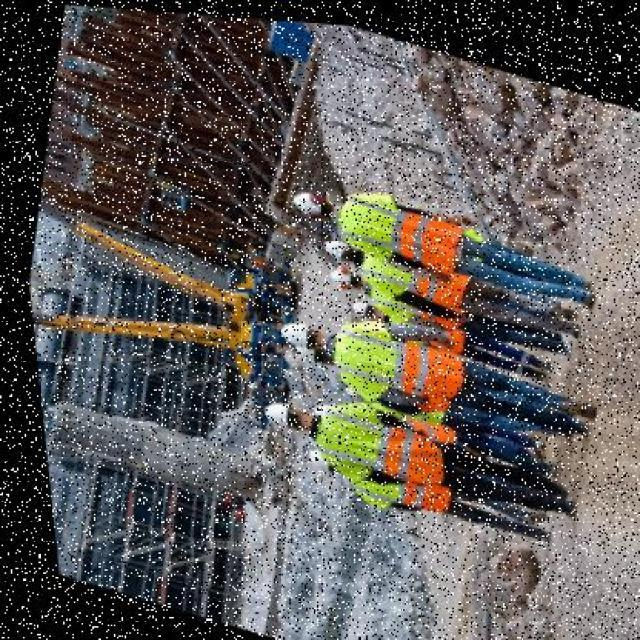helmet: (266, 314, 307, 348), (249, 394, 285, 426), (285, 183, 319, 214)
vest: (300, 396, 446, 484), (326, 314, 458, 402), (329, 183, 463, 261), (354, 248, 464, 308)
